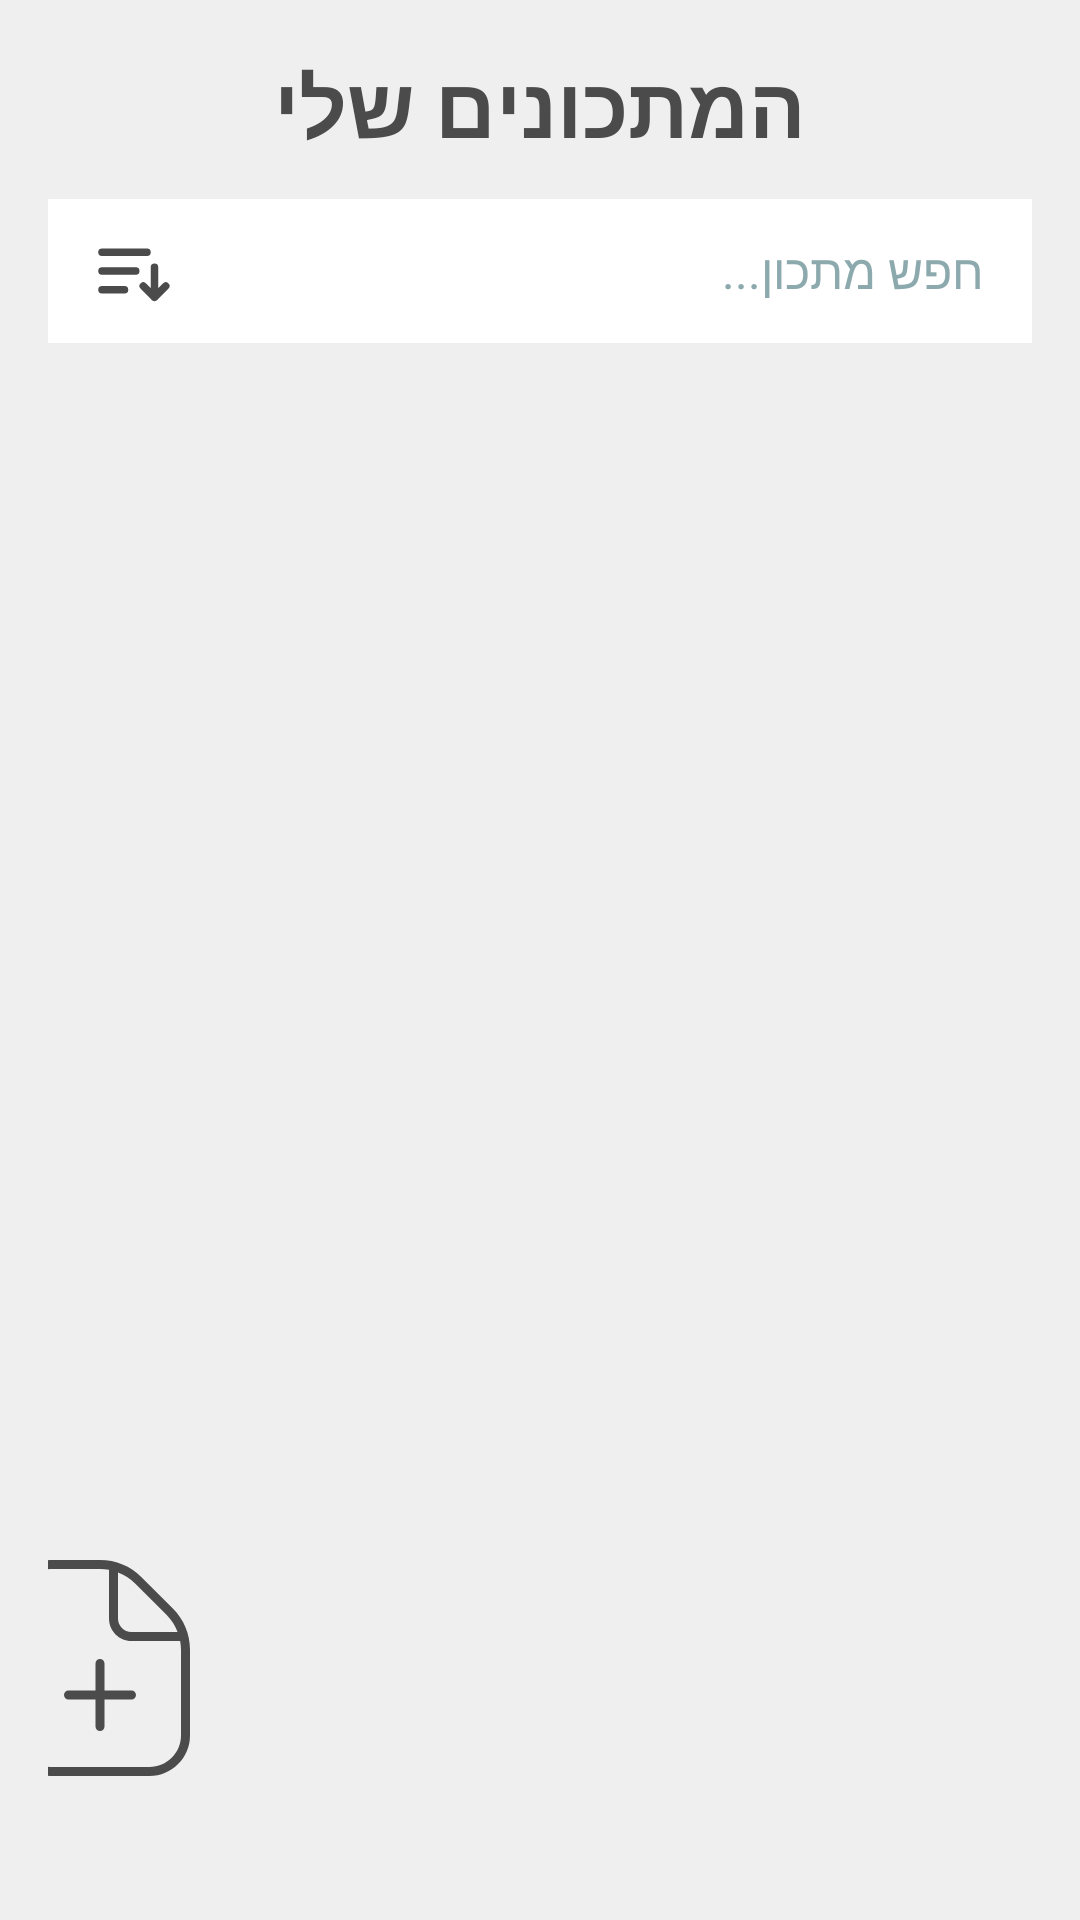

Locate icon controls on the screen. Image size 1080 x 1920, boxes as (x1, y1, x2, y2).
הוסף מתכון: (48, 1560, 190, 1776)
מיין מתכונים: (98, 248, 170, 302)
